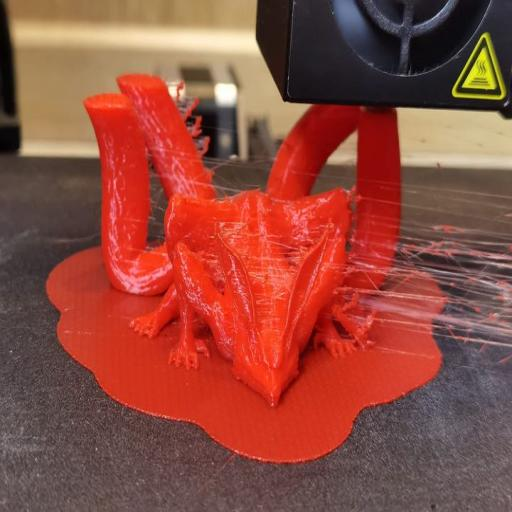stringing: (352, 193, 512, 341)
